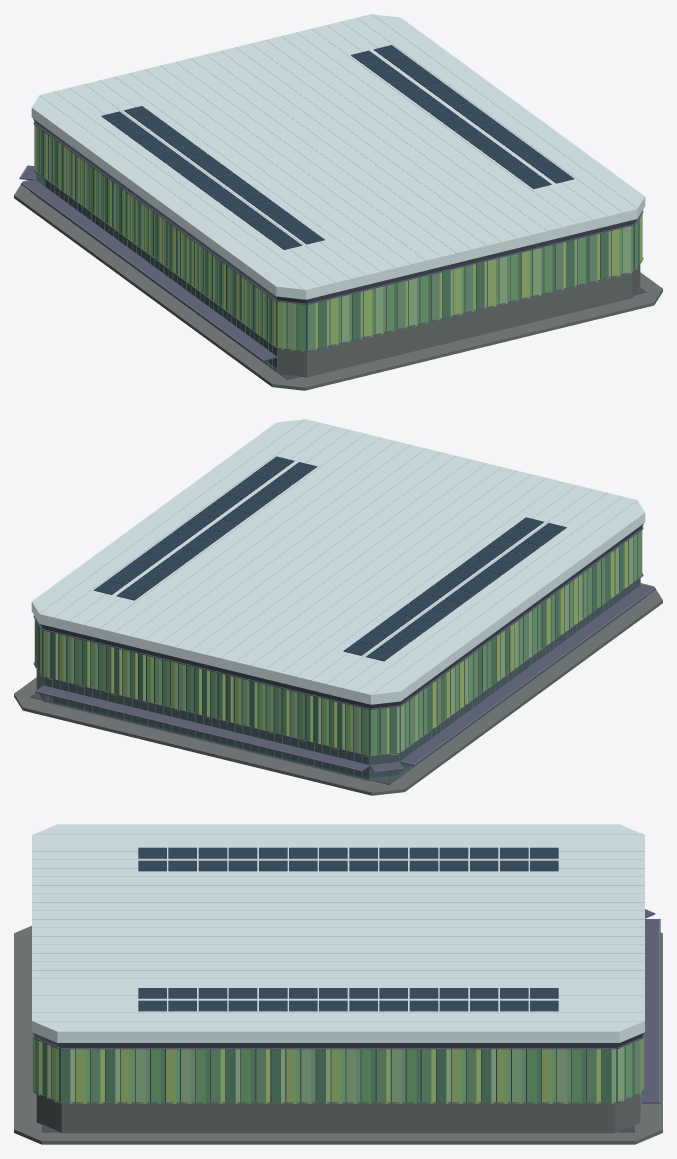
The model's file is shell.glb.
3 renders of one model, top to bottom at view 1: azimuth 30°, elevation 25°; view 2: azimuth 150°, elevation 25°; view 3: azimuth 270°, elevation 25°, orthographic. The views are drawn at different scales.
Visible parts, largest first — view 1: shell_roof_canopy_deck, shell_roof_canopy_solar, shell_bowl_mass_plaza, shell_bowl_mass_podium, shell_bowl_mass_cladding_4, shell_bowl_mass_cladding_3, shell_bowl_mass_cladding_5, shell_bowl_mass_cladding_1, shell_bowl_mass_cladding_2, shell_roof_canopy_seams, shell_bowl_mass_envelope, shell_bowl_mass_entry_canopy (+5 smaller); view 2: shell_roof_canopy_deck, shell_roof_canopy_solar, shell_bowl_mass_plaza, shell_bowl_mass_lobby_glazing, shell_bowl_mass_entry_canopy, shell_bowl_mass_cladding_4, shell_bowl_mass_plaza_lobby_back, shell_bowl_mass_cladding_5, shell_bowl_mass_cladding_2, shell_bowl_mass_cladding_1, shell_bowl_mass_cladding_3, shell_roof_canopy_seams (+6 smaller); view 3: shell_roof_canopy_deck, shell_roof_canopy_solar, shell_bowl_mass_podium, shell_bowl_mass_plaza, shell_roof_canopy_seams, shell_bowl_mass_cladding_3, shell_bowl_mass_cladding_1, shell_bowl_mass_cladding_5, shell_bowl_mass_cladding_4, shell_bowl_mass_cladding_2, shell_bowl_mass_entry_canopy, shell_bowl_mass_crown_trim (+2 smaller).
Boxes of the visible parts, box(x1,y1,x2,y2) form: shell_roof_canopy_deck: box(31, 14, 645, 299); shell_roof_canopy_solar: box(101, 45, 574, 249); shell_bowl_mass_plaza: box(14, 177, 662, 390); shell_bowl_mass_podium: box(277, 264, 640, 377); shell_bowl_mass_cladding_4: box(36, 126, 637, 351); shell_bowl_mass_cladding_3: box(45, 133, 642, 350); shell_bowl_mass_cladding_5: box(34, 125, 630, 350); shell_bowl_mass_cladding_1: box(34, 125, 639, 351); shell_bowl_mass_cladding_2: box(39, 128, 622, 351); shell_roof_canopy_seams: box(39, 14, 637, 289); shell_bowl_mass_envelope: box(39, 128, 636, 350); shell_bowl_mass_entry_canopy: box(19, 165, 277, 361); shell_roof_canopy_deck: box(31, 419, 645, 704); shell_roof_canopy_solar: box(93, 456, 566, 661); shell_bowl_mass_plaza: box(14, 583, 662, 795); shell_bowl_mass_lobby_glazing: box(44, 579, 639, 781); shell_bowl_mass_entry_canopy: box(35, 584, 655, 772); shell_bowl_mass_cladding_4: box(35, 530, 641, 754); shell_bowl_mass_plaza_lobby_back: box(45, 584, 631, 778); shell_bowl_mass_cladding_5: box(34, 537, 632, 753); shell_bowl_mass_cladding_2: box(37, 534, 637, 755); shell_bowl_mass_cladding_1: box(37, 533, 637, 755); shell_bowl_mass_cladding_3: box(40, 530, 642, 754); shell_roof_canopy_seams: box(39, 419, 637, 694); shell_roof_canopy_deck: box(32, 824, 644, 1042); shell_roof_canopy_solar: box(138, 847, 558, 1011); shell_bowl_mass_podium: box(36, 1094, 640, 1133); shell_bowl_mass_plaza: box(14, 926, 662, 1144); shell_roof_canopy_seams: box(32, 834, 644, 1021); shell_bowl_mass_cladding_3: box(39, 1039, 642, 1103); shell_bowl_mass_cladding_1: box(43, 1033, 644, 1103); shell_bowl_mass_cladding_5: box(32, 1035, 644, 1103); shell_bowl_mass_cladding_4: box(32, 1036, 640, 1103); shell_bowl_mass_cladding_2: box(32, 1033, 632, 1103); shell_bowl_mass_entry_canopy: box(641, 909, 660, 1103); shell_bowl_mass_crown_trim: box(33, 1033, 643, 1047).
Bounding box in the file's own units: 104 × 23.65 × 129.
